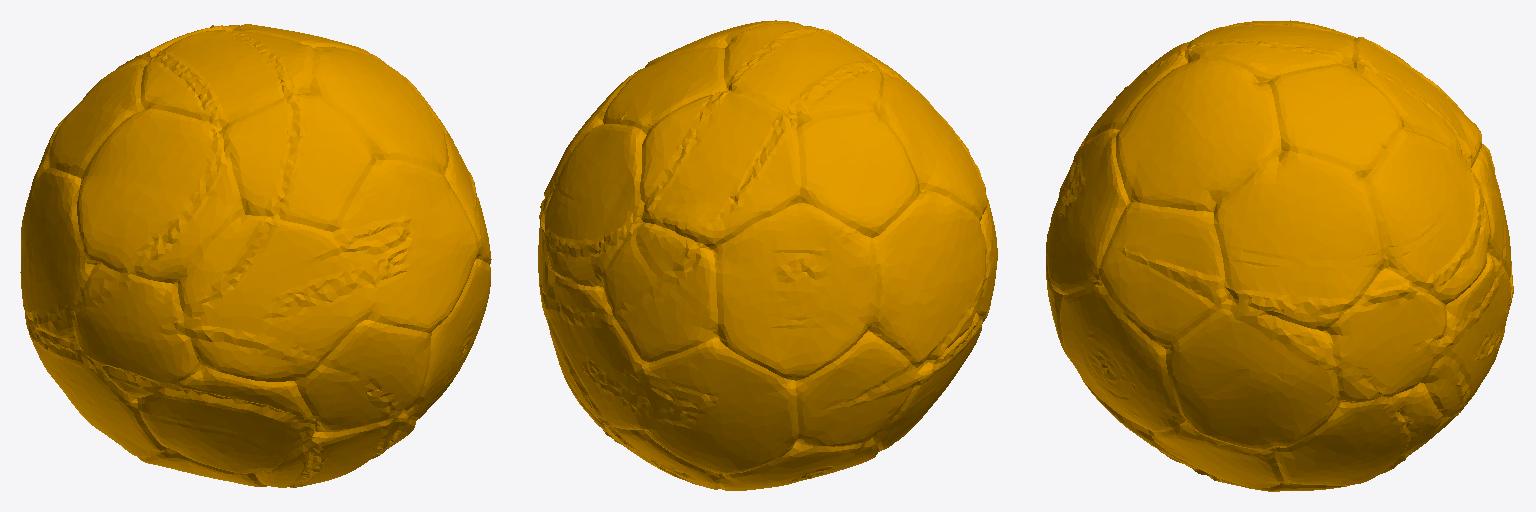
The robot description file, URDF, robot "053_mini_soccer_ball":
<?xml version="1.0" ?>
<robot name="053_mini_soccer_ball">
  <link name="base_link">
    <inertial>
      <mass value="0.10534759481778322"/>
      <origin rpy="2.97221  0.73423 -2.13411" xyz="-0.0059   0.01152  0.06131"/>
      <inertia ixx="0.0001726347245317916" ixy="9.460202720058954e-20" ixz="-6.038029959892753e-21" iyy="0.00016733274527037096" iyz="2.4322061493773563e-21" izz="0.00016457574365541516"/>
    </inertial>
    <collision name="053_mini_soccer_ball__collision">
      <origin rpy="0 0 0" xyz="0 0 0"/>
      <geometry>
        <mesh filename="./053_mini_soccer_ball_250_collision.stl" scale="1.0 1.0 1.0"/>
      </geometry>
    </collision>
    <visual name="053_mini_soccer_ball__visual">
      <origin rpy="0 0 0" xyz="0 0 0"/>
      <geometry>
        <mesh filename="./textured.obj" scale="1.0 1.0 1.0"/>
      </geometry>
    </visual>
  </link>
</robot>

--- What the picture shows (computed from the rendered views, not written in the file) ---
3 views of the same robot in one strip: view 1: azimuth 30°, elevation 25°; view 2: azimuth 150°, elevation 25°; view 3: azimuth 270°, elevation 25° (orthographic).
Model 053_mini_soccer_ball with 1 links and 0 joints (none), rooted at base_link, posed all joints at 0.
Visible links, largest first — view 1: base_link; view 2: base_link; view 3: base_link.
Boxes of the visible links, x1,y1,x2,y2 form: base_link: (20,24,491,487); base_link: (538,20,997,490); base_link: (1046,20,1513,491).
Bounding box of the posed robot: 0.1281 × 0.1278 × 0.1256 m (x, y, z).
Meshes: 1 distinct files referenced, 1 mesh visuals loaded (1 OBJ).